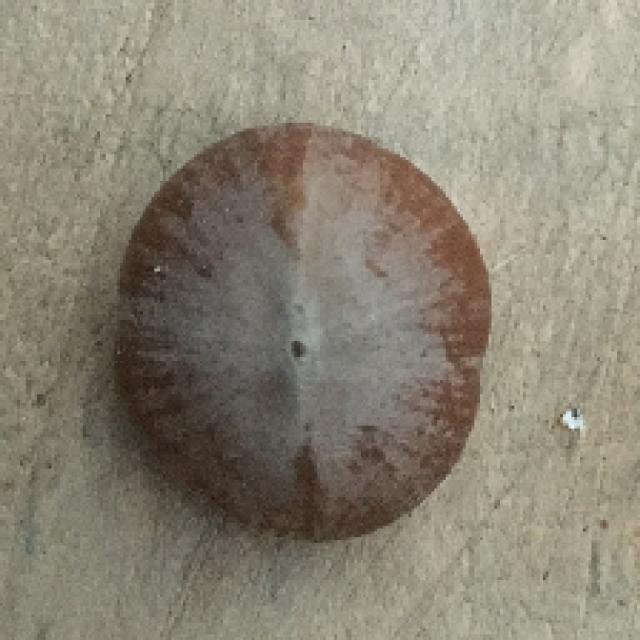qualityHazelnut: (99, 124, 495, 543)
